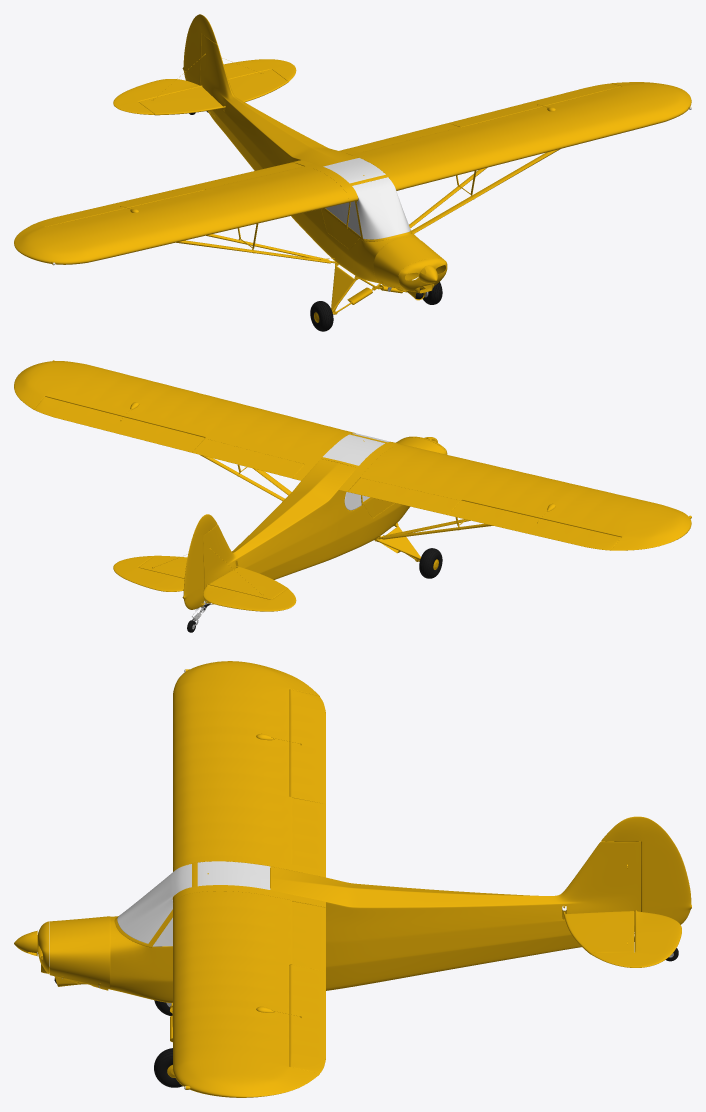
The model's file is piper_pa18.glb.
The picture shows the model from 3 angles, top to bottom: view 1: azimuth 30°, elevation 25°; view 2: azimuth 150°, elevation 25°; view 3: azimuth 270°, elevation 25°; orthographic projection. The views are drawn at different scales.
Parts seen in each view (by area): view 1: fuselage_wings, fuselage01, windshield01, horizontal_stab01, fuselage02, elevator01, aileron_L01, aileron_R01, rudder01, wing_support_L01, fuselage_wings02, wing_support_R01 (+6 smaller); view 2: fuselage_wings, fuselage01, aileron_L01, aileron_R01, elevator01, horizontal_stab01, flap_L01, flap_R01, rudder01, fuselage_wings02, windshield01, wing_support_R01 (+4 smaller); view 3: fuselage_wings, fuselage01, rudder01, fuselage02, windshield01, aileron_R01, aileron_L01, elevator01, horizontal_stab01, flap_R01, flap_L01, fuselage_wings02 (+1 smaller).
Part boxes in pixels (x1=…): fuselage_wings: x1=14, y1=82, x2=691, y2=264; fuselage01: x1=200, y1=34, x2=419, y2=283; windshield01: x1=323, y1=158, x2=410, y2=239; horizontal_stab01: x1=139, y1=69, x2=288, y2=115; fuselage02: x1=373, y1=237, x2=447, y2=291; elevator01: x1=113, y1=59, x2=296, y2=114; aileron_L01: x1=449, y1=83, x2=620, y2=127; aileron_R01: x1=34, y1=185, x2=204, y2=226; rudder01: x1=182, y1=14, x2=217, y2=85; wing_support_L01: x1=409, y1=149, x2=560, y2=233; fuselage_wings02: x1=293, y1=148, x2=404, y2=202; wing_support_R01: x1=176, y1=234, x2=330, y2=263; fuselage_wings: x1=14, y1=361, x2=691, y2=550; fuselage01: x1=203, y1=444, x2=409, y2=603; aileron_L01: x1=34, y1=396, x2=204, y2=452; aileron_R01: x1=448, y1=500, x2=621, y2=550; elevator01: x1=113, y1=556, x2=296, y2=611; horizontal_stab01: x1=138, y1=555, x2=287, y2=599; flap_L01: x1=192, y1=438, x2=304, y2=478; flap_R01: x1=348, y1=478, x2=460, y2=515; rudder01: x1=182, y1=514, x2=217, y2=609; fuselage_wings02: x1=292, y1=430, x2=399, y2=491; windshield01: x1=323, y1=433, x2=389, y2=465; wing_support_R01: x1=382, y1=519, x2=492, y2=539; fuselage_wings: x1=173, y1=661, x2=324, y2=1097; fuselage01: x1=108, y1=841, x2=640, y2=1002; rudder01: x1=601, y1=816, x2=691, y2=924; fuselage02: x1=37, y1=916, x2=110, y2=987; windshield01: x1=117, y1=861, x2=270, y2=943; aileron_R01: x1=289, y1=689, x2=325, y2=804; aileron_L01: x1=289, y1=965, x2=325, y2=1073; elevator01: x1=590, y1=910, x2=681, y2=967; horizontal_stab01: x1=563, y1=905, x2=634, y2=954; flap_R01: x1=292, y1=798, x2=325, y2=871; flap_L01: x1=292, y1=901, x2=325, y2=971; fuselage_wings02: x1=173, y1=855, x2=325, y2=907.
Size of the model in its own units: 10.69 by 2.69 by 7.05.
